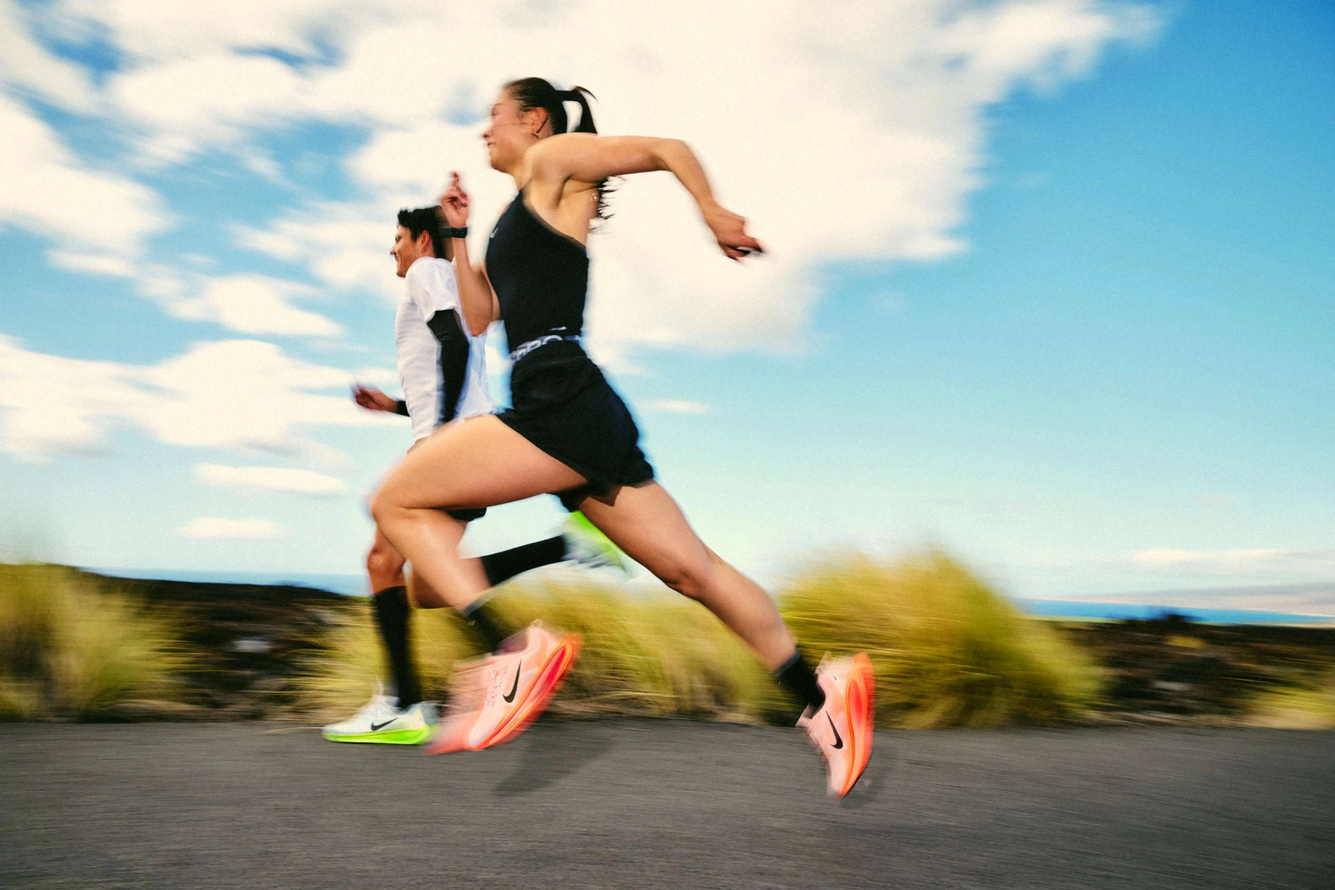nike logo: (495, 656, 534, 711), (818, 703, 850, 761), (363, 712, 408, 733)
